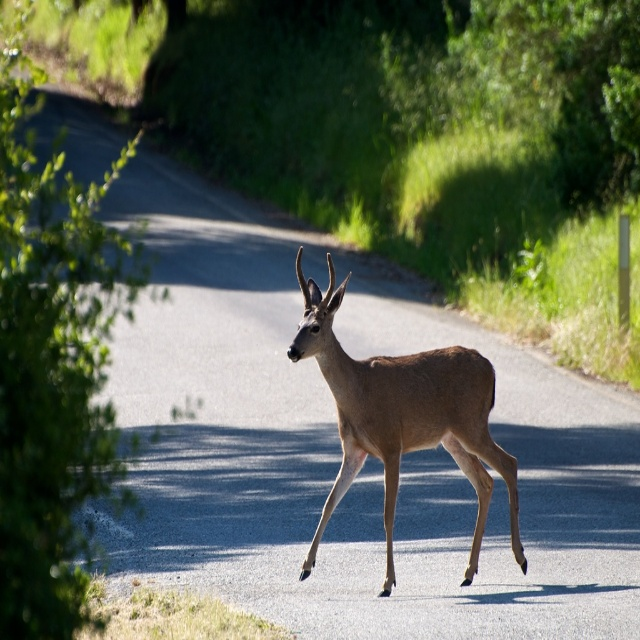Deer: (289, 250, 530, 597)
